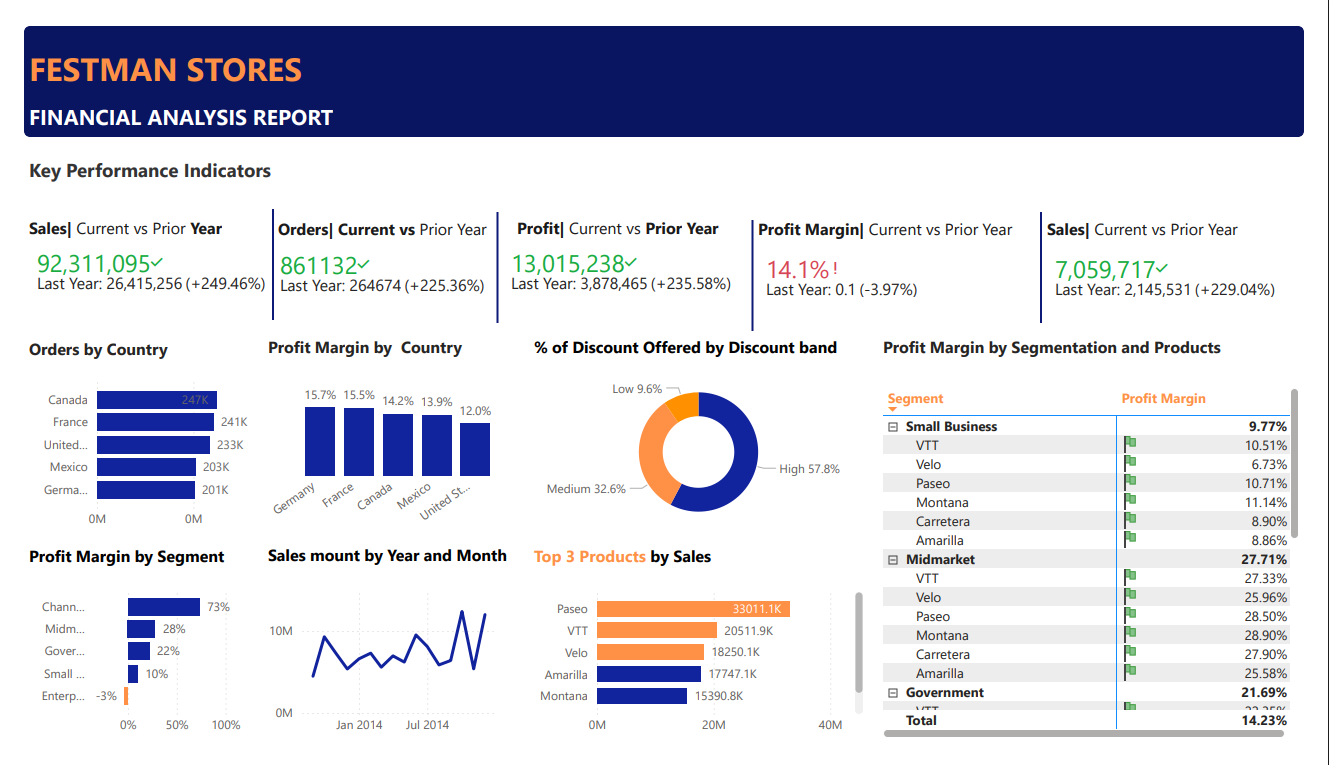

This screenshot's page, from the dashboard's own definition file:
{"tool":"powerbi","page":{"name":"Page 1","canvas":[1280,720],"ordinal":0},"visuals":[{"type":"shape","box":[853.9,351.4,426.2,368.6],"z":0},{"type":"shape","box":[0,3.4,1280,110.9],"z":1000},{"type":"shape","box":[0,129.3,1280,38.6],"z":2000},{"type":"shape","box":[0,188.6,1280.2,110.9],"z":3000},{"type":"shape","box":[0,345.6,227.5,168.5],"z":4000},{"type":"shape","box":[0,555.8,227.5,164.2],"z":5000},{"type":"shape","box":[239,347,249.1,167],"z":6000},{"type":"shape","box":[505.4,345.6,338.4,168.5],"z":7000},{"type":"shape","box":[505.4,555.8,338.4,164.2],"z":8000},{"type":"shape","box":[240.5,555.8,247.7,164.2],"z":9000},{"type":"shape","box":[0,517,227.5,33.1],"z":10000},{"type":"shape","box":[505.4,518.4,338.4,31.7],"z":11000},{"type":"shape","box":[239,517,249.1,31.7],"z":12000},{"type":"shape","box":[505.4,308.2,338.4,31.7],"z":13000},{"type":"shape","box":[239,308.2,249.1,33.1],"z":14000},{"type":"shape","box":[0,309.6,227.5,31.7],"z":15000},{"type":"textbox","box":[0,18.5,346,55.4],"z":16000},{"type":"textbox","box":[0,73.9,388,40.3],"z":17000},{"type":"textbox","box":[0,129,286,39],"z":18000},{"type":"kpi","fields":{"Indicator":["Analysis.Sales Amount"],"TrendLine":["Date Table.Year"],"Goal":["Analysis.Sales Amount LY"]},"box":[0,213.3,253.6,84],"z":19000},{"type":"textbox","box":[0,188.6,216,40.3],"z":20000},{"type":"shape","box":[172.8,185.8,152.6,110.9],"z":21000},{"type":"kpi","fields":{"TrendLine":["Date Table.Year"],"Indicator":["Analysis.Profit Margin"],"Goal":["Analysis.Profit Margin LY"]},"box":[728.6,218.9,223.2,54.7],"z":22000},{"type":"kpi","fields":{"TrendLine":["Date Table.Year"],"Indicator":["Analysis.Profit"],"Goal":["Analysis.Profit LY"]},"box":[473.8,213.1,240.5,59],"z":23000},{"type":"textbox","box":[249.1,190.1,267.8,56.2],"z":24000},{"type":"textbox","box":[488.2,188.6,240.5,40.3],"z":25000},{"type":"kpi","fields":{"TrendLine":["Date Table.Year"],"Indicator":["Analysis.Discount Offered"],"Goal":["Analysis.Discount Offerred LY"]},"box":[1018.1,218.9,244.8,54.7],"z":26000},{"type":"kpi","fields":{"TrendLine":["Date Table.Year"],"Goal":["Analysis.Order LY"],"Indicator":["Analysis.Orders"]},"box":[243.4,214.6,241.9,82.1],"z":27000},{"type":"textbox","box":[728.6,190.1,306.7,49],"z":28000},{"type":"textbox","box":[1018.1,190.1,262.1,53.3],"z":29000},{"type":"shape","box":[397.4,188.6,152.6,110.9],"z":30000},{"type":"shape","box":[652.3,197.3,152.6,110.9],"z":31000},{"type":"shape","box":[940.3,188.6,154.1,110.9],"z":32000},{"type":"barChart","fields":{"Category":["Financials.Country"],"Y":["Analysis.Orders"]},"box":[0,345.6,239,168.5],"z":33000},{"type":"textbox","box":[0,310,228,32],"z":34000},{"type":"textbox","box":[239,308,249,34],"z":35000},{"type":"textbox","box":[505,308,338,32],"z":36000},{"type":"columnChart","fields":{"Category":["Financials.Country"],"Y":["Analysis.Profit Margin"]},"box":[240.5,348.5,247.7,162.7],"z":37000},{"type":"textbox","box":[505.4,517,325.4,31.7],"z":38000},{"type":"textbox","box":[239,515.5,266.4,33.1],"z":39000},{"type":"textbox","box":[0,517,227.5,31.7],"z":40000},{"type":"donutChart","fields":{"Category":["Financials.Discount Band"],"Y":["Analysis.Discount Offered"]},"box":[505.4,347,338.4,164.2],"z":41000},{"type":"barChart","fields":{"Category":["Financials.Segment"],"Y":["Analysis.Profit Margin"]},"box":[0,553,227.5,167],"z":42000},{"type":"lineChart","fields":{"Category":["Date Table.Date.Variation.Date Hierarchy.Year","Date Table.Date.Variation.Date Hierarchy.Month"],"Y":["Analysis.Sales Amount"]},"box":[240.5,553,247.7,167],"z":43000},{"type":"barChart","fields":{"Y":["Analysis.Sales Amount","Analysis.Sales Amount"],"Category":["Financials.Product"]},"box":[505.4,555.8,338.4,164.2],"z":44000},{"type":"shape","box":[1034.8,309.1,245.2,31.9],"z":45000},{"type":"pivotTable","fields":{"Rows":["Financials.Segment","Financials.Product"],"Values":["Analysis.Profit Margin"]},"box":[853.9,360,426.2,360],"z":46000},{"type":"shape","box":[853.9,309.6,426.2,31.7],"z":47000},{"type":"textbox","box":[853.9,308.2,426.2,31.7],"z":48000}]}

Visuals, with their boxes in screenshot pixels (x1, y1, x2, y2), scaled from the page's 1280x720 canvas onto the 1329x765 screenshot:
shape: [887, 373, 1328, 764]
shape: [0, 4, 1328, 121]
shape: [0, 137, 1328, 178]
shape: [0, 200, 1328, 318]
shape: [0, 367, 236, 546]
shape: [0, 591, 236, 764]
shape: [248, 369, 507, 546]
shape: [525, 367, 876, 546]
shape: [525, 591, 876, 764]
shape: [250, 591, 507, 764]
shape: [0, 549, 236, 584]
shape: [525, 551, 876, 584]
shape: [248, 549, 507, 583]
shape: [525, 327, 876, 361]
shape: [248, 327, 507, 363]
shape: [0, 329, 236, 363]
textbox: [0, 20, 359, 79]
textbox: [0, 79, 403, 121]
textbox: [0, 137, 297, 178]
kpi - Analysis.Sales Amount x Date Table.Year: [0, 227, 263, 316]
textbox: [0, 200, 224, 243]
shape: [179, 197, 338, 315]
kpi - Date Table.Year x Analysis.Profit Margin: [756, 233, 988, 291]
kpi - Date Table.Year x Analysis.Profit: [492, 226, 742, 289]
textbox: [259, 202, 537, 262]
textbox: [507, 200, 757, 243]
kpi - Date Table.Year x Analysis.Discount Offered: [1057, 233, 1311, 291]
kpi - Date Table.Year x Analysis.Order LY: [253, 228, 504, 315]
textbox: [756, 202, 1075, 254]
textbox: [1057, 202, 1328, 259]
shape: [413, 200, 571, 318]
shape: [677, 210, 836, 327]
shape: [976, 200, 1136, 318]
barChart - Financials.Country x Analysis.Orders: [0, 367, 248, 546]
textbox: [0, 329, 237, 363]
textbox: [248, 327, 507, 363]
textbox: [524, 327, 875, 361]
columnChart - Financials.Country x Analysis.Profit Margin: [250, 370, 507, 543]
textbox: [525, 549, 863, 583]
textbox: [248, 548, 525, 583]
textbox: [0, 549, 236, 583]
donutChart - Financials.Discount Band x Analysis.Discount Offered: [525, 369, 876, 543]
barChart - Financials.Segment x Analysis.Profit Margin: [0, 588, 236, 764]
lineChart - Date Table.Date.Variation.Date Hierarchy.Year x Date Table.Date.Variation.Date Hierarchy.Month: [250, 588, 507, 764]
barChart - Analysis.Sales Amount x Analysis.Sales Amount: [525, 591, 876, 764]
shape: [1074, 328, 1328, 362]
pivotTable - Financials.Segment x Financials.Product: [887, 382, 1328, 764]
shape: [887, 329, 1328, 363]
textbox: [887, 327, 1328, 361]
